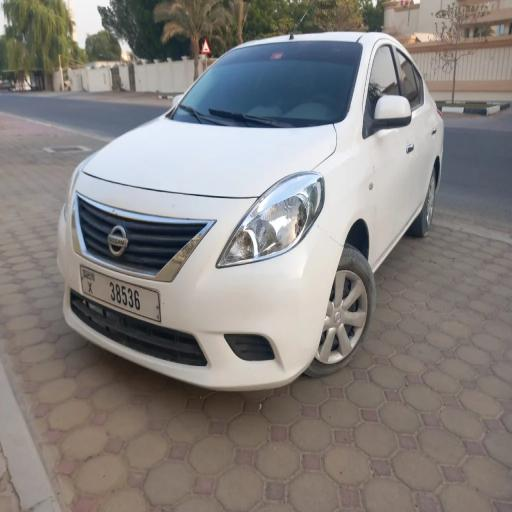license-plates: (80, 266, 160, 321)
